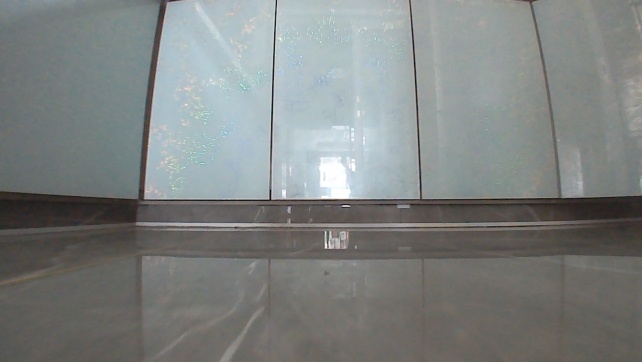cupboard1: (0, 0, 641, 234)
